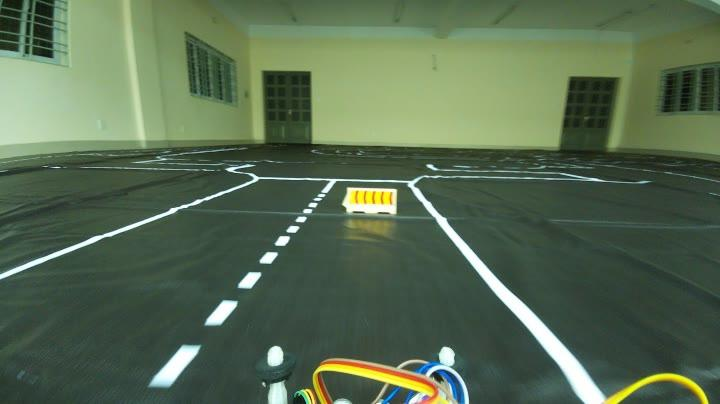roadblock: (334, 179, 408, 223)
